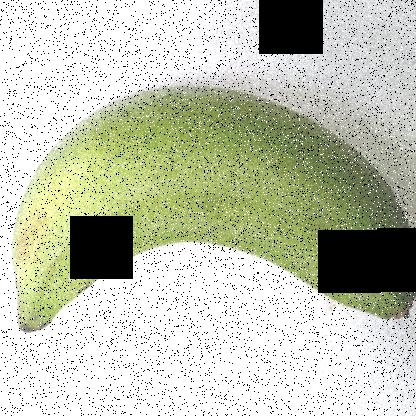freshunripe: (7, 69, 415, 349)
